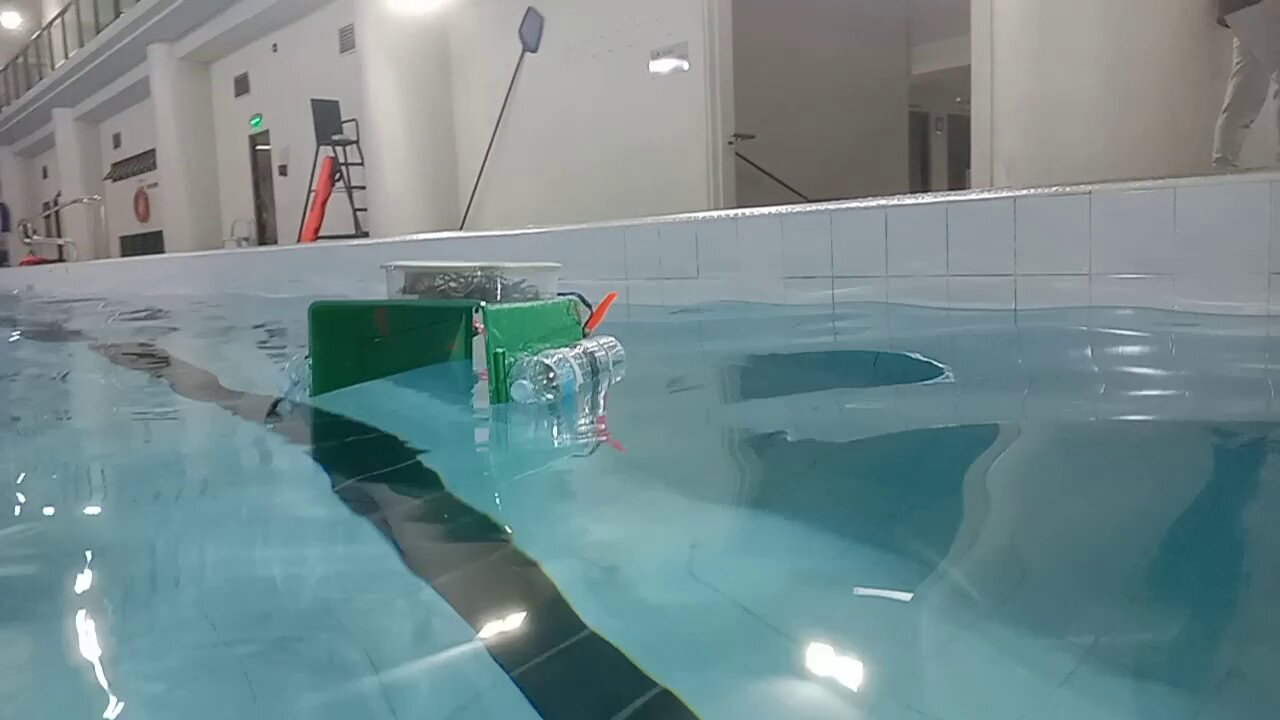drone: (273, 259, 630, 408)
